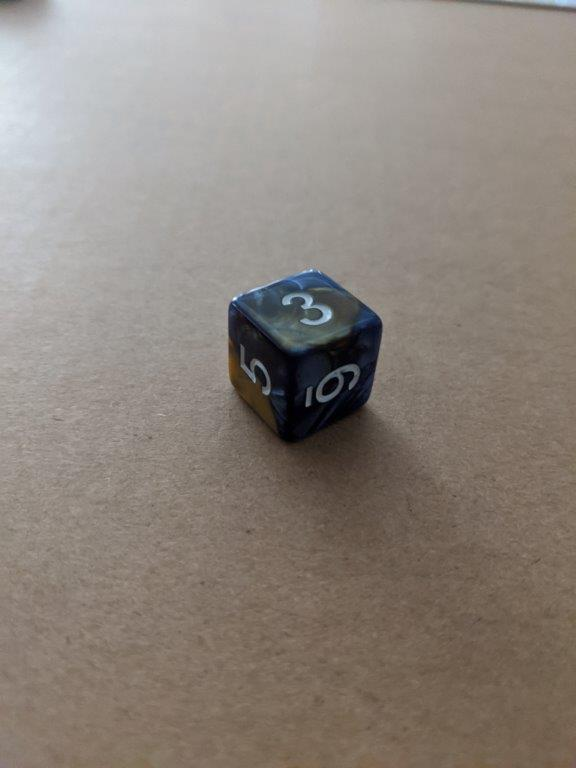d6-3: (226, 263, 388, 445)
